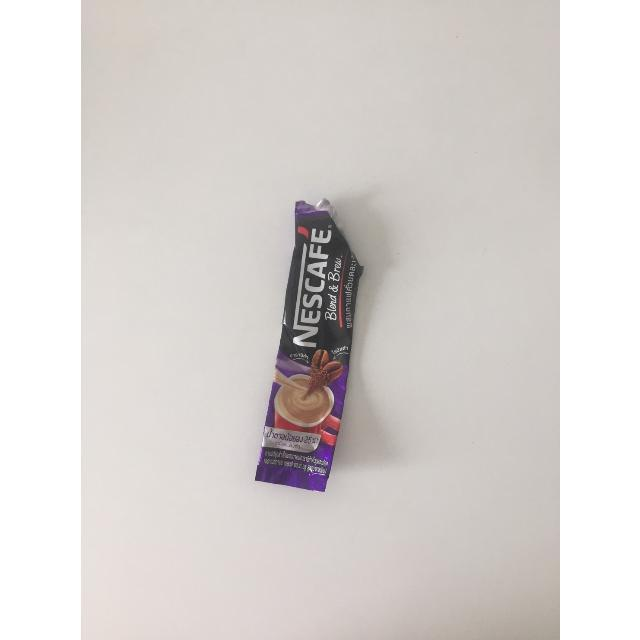Paquete de plastico: (255, 201, 364, 491)
